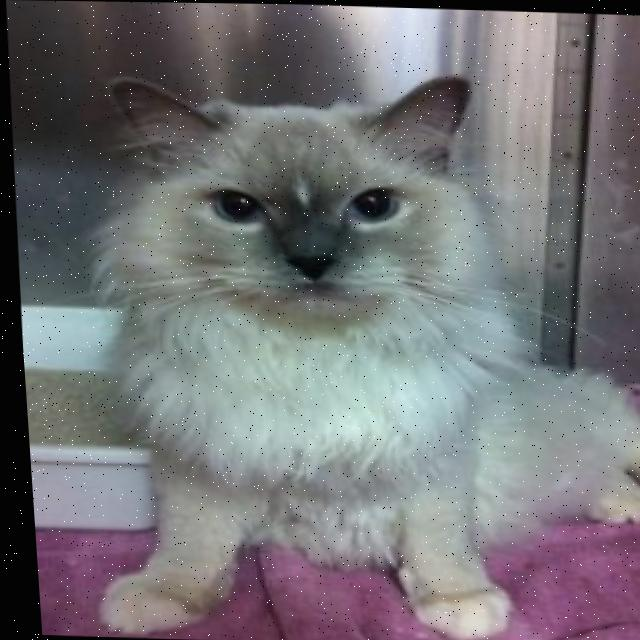Ragdoll: (45, 55, 640, 640)
